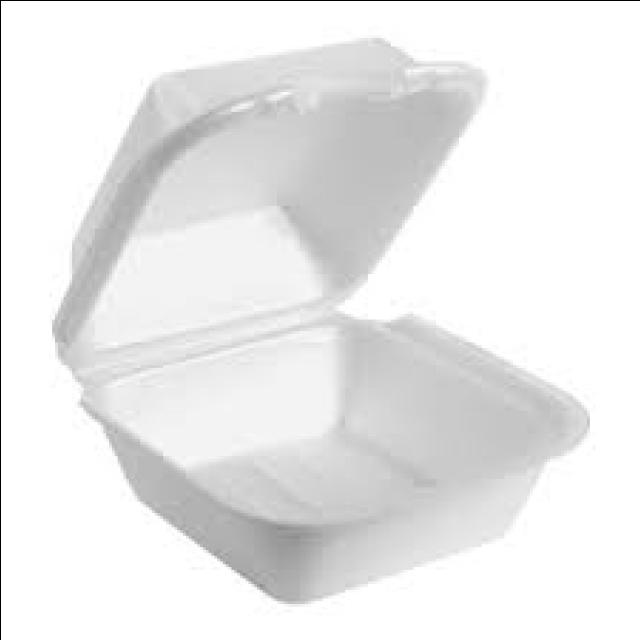styrofoam: (52, 39, 588, 598)
